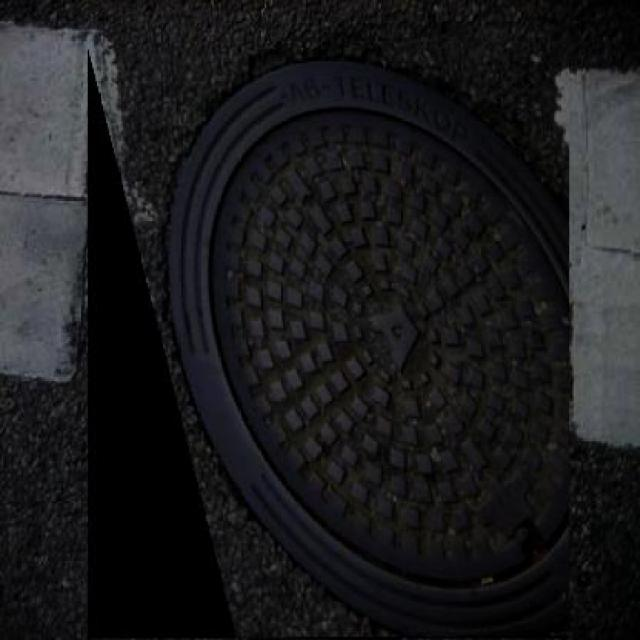Manhole: (88, 47, 570, 638)
